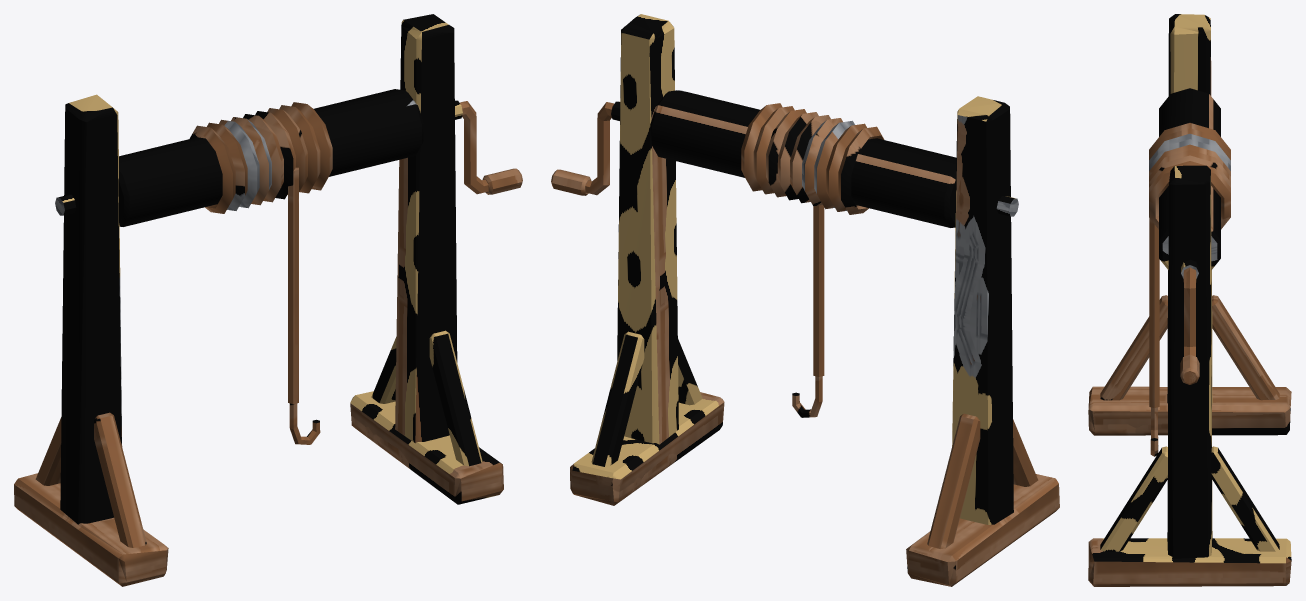
File: well_winch.glb
3 views of the same model, side by side, from view 1: azimuth 30°, elevation 25°; view 2: azimuth 150°, elevation 25°; view 3: azimuth 270°, elevation 25° (orthographic). The views are drawn at different scales.
Parts seen in each view (by area): view 1: post_left, post_right, drum, sill_left, sill_right, brace_front_right, brace_front_left, rope, coil_0, crank, coil_8, coil_2 (+9 smaller); view 2: post_left, post_right, drum, sill_left, sill_right, brace_back_left, brace_back_right, rope, coil_0, crank, coil_8, coil_2 (+9 smaller); view 3: post_right, sill_right, sill_left, post_left, drum, brace_back_right, brace_front_right, brace_back_left, brace_front_left, rope, crank, coil_8 (+10 smaller).
Part boxes in pixels (bbox=[...]): post_left: bbox=[60, 94, 122, 524]; post_right: bbox=[395, 14, 457, 443]; drum: bbox=[118, 89, 423, 226]; sill_left: bbox=[14, 473, 168, 586]; sill_right: bbox=[350, 391, 503, 504]; brace_front_right: bbox=[429, 330, 482, 466]; brace_front_left: bbox=[94, 412, 146, 547]; rope: bbox=[288, 167, 298, 403]; coil_0: bbox=[189, 125, 235, 213]; crank: bbox=[460, 101, 488, 194]; coil_8: bbox=[291, 102, 332, 190]; coil_2: bbox=[219, 119, 259, 208]; post_left: bbox=[952, 96, 1013, 524]; post_right: bbox=[617, 14, 678, 444]; drum: bbox=[650, 90, 956, 227]; sill_left: bbox=[906, 474, 1059, 586]; sill_right: bbox=[570, 392, 724, 505]; brace_back_left: bbox=[927, 413, 980, 548]; brace_back_right: bbox=[591, 331, 644, 466]; rope: bbox=[813, 205, 824, 376]; coil_0: bbox=[838, 126, 884, 214]; crank: bbox=[585, 102, 613, 195]; coil_8: bbox=[741, 103, 782, 191]; coil_2: bbox=[814, 120, 854, 209]; post_right: bbox=[1167, 165, 1212, 558]; sill_right: bbox=[1088, 538, 1291, 586]; sill_left: bbox=[1088, 386, 1291, 435]; post_left: bbox=[1167, 14, 1212, 403]; drum: bbox=[1159, 88, 1220, 269]; brace_back_right: bbox=[1211, 446, 1279, 551]; brace_front_right: bbox=[1100, 446, 1167, 551]; brace_back_left: bbox=[1212, 295, 1279, 400]; brace_front_left: bbox=[1100, 295, 1167, 400]; rope: bbox=[1149, 218, 1159, 407]; crank: bbox=[1183, 267, 1196, 382]; coil_8: bbox=[1149, 172, 1230, 229].
Size of what is drawn, in the model's own units: 1.5 by 1.38 by 0.6244.
3 materials, 3 textured.
